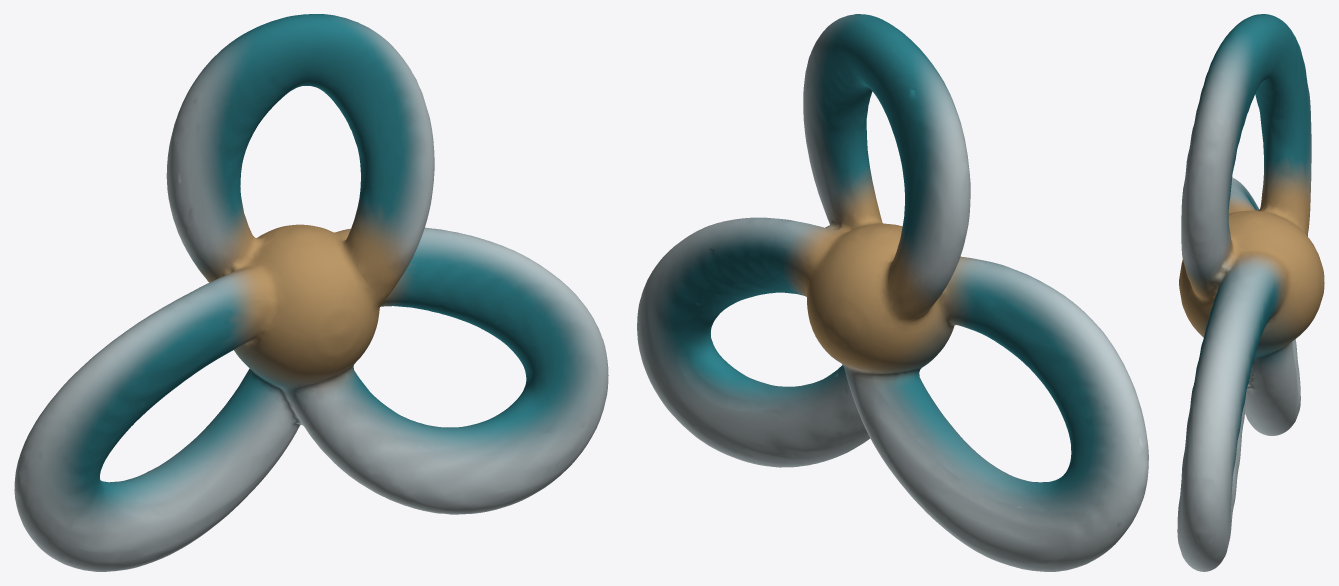
Rendered from learning-sculpture.glb.
3 renders of one model, left to right at view 1: azimuth 30°, elevation 25°; view 2: azimuth 150°, elevation 25°; view 3: azimuth 270°, elevation 25°, orthographic. The views are drawn at different scales.
Parts seen in each view (by area): view 1: GEO-Learning-Core; view 2: GEO-Learning-Core; view 3: GEO-Learning-Core.
Part boxes in pixels (x1=…): GEO-Learning-Core: x1=14, y1=14, x2=608, y2=571; GEO-Learning-Core: x1=637, y1=14, x2=1148, y2=571; GEO-Learning-Core: x1=1177, y1=14, x2=1324, y2=571.
Bounding box in the file's own units: 2.48 × 2.2 × 0.6221.
